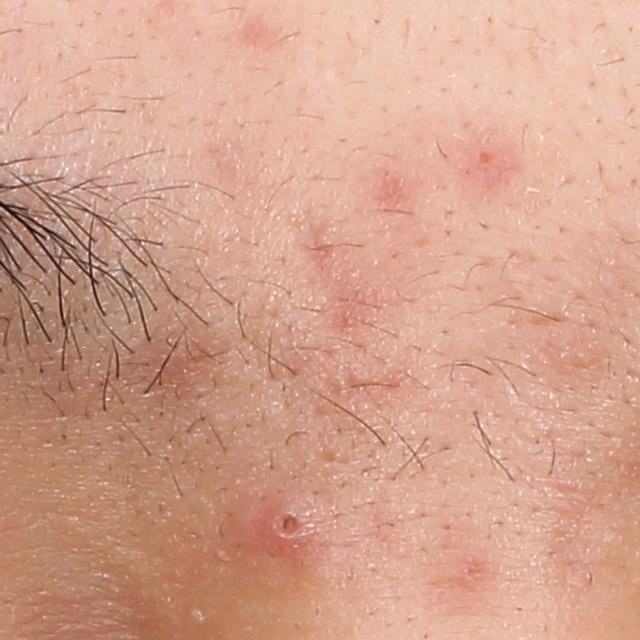papule: (247, 492, 341, 570), (473, 148, 501, 174)
